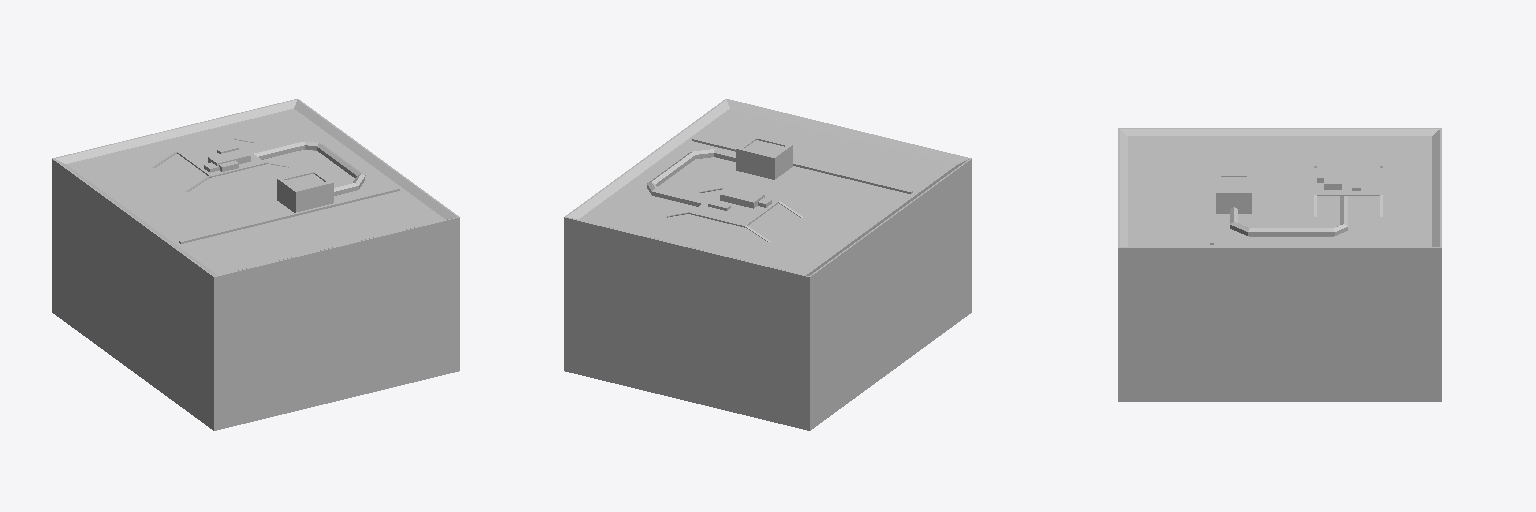
The model's file is greenlaw.obj.
3 renders of one model, left to right at view 1: azimuth 30°, elevation 25°; view 2: azimuth 150°, elevation 25°; view 3: azimuth 270°, elevation 25°, orthographic.
Parts seen in each view (by area): view 1: SketchUp, SketchUp_ID41, SketchUp_ID11; view 2: SketchUp, SketchUp_ID41, SketchUp_ID11; view 3: SketchUp, SketchUp_ID41, SketchUp_ID11.
Boxes of the visible parts, box(x1,y1,x2,y2) form: SketchUp: box(52, 99, 459, 430); SketchUp_ID41: box(66, 109, 445, 274); SketchUp_ID11: box(254, 141, 365, 195); SketchUp: box(564, 99, 971, 430); SketchUp_ID41: box(578, 109, 957, 274); SketchUp_ID11: box(647, 149, 735, 206); SketchUp: box(1118, 128, 1441, 401); SketchUp_ID41: box(1128, 136, 1431, 246); SketchUp_ID11: box(1230, 196, 1347, 236).
Bounding box in the file's own units: 4.1 × 2.73 × 4.68.